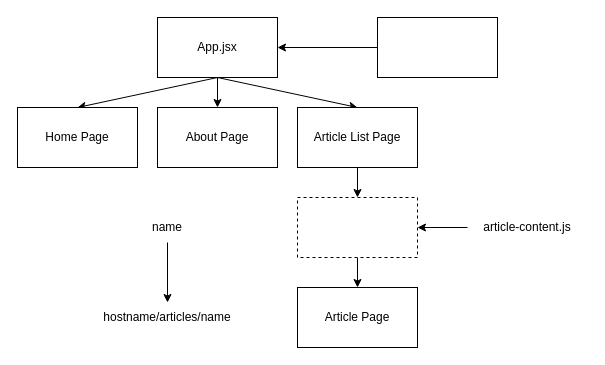
Image size: 605x365. Some labels were removed from this diagram. Here are the shapes that lost their labels. From the top down, the box of each, then its label:
(376, 16, 498, 78): Layout
(296, 196, 418, 258): Article List
